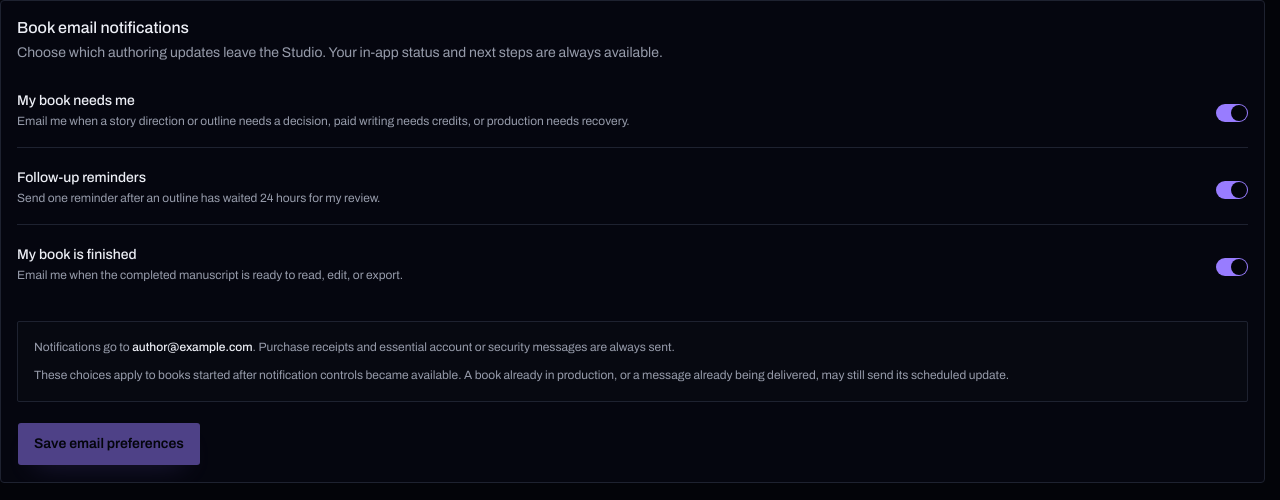
it: NotificationPreferencesCard › treats response loss as unconfirmed and lets the author retry
What coordinates should you click on to do the following:
click the switch named "My book is finished"
I would click on:
 (1232, 267)
Its box is [1216,258,1248,276].
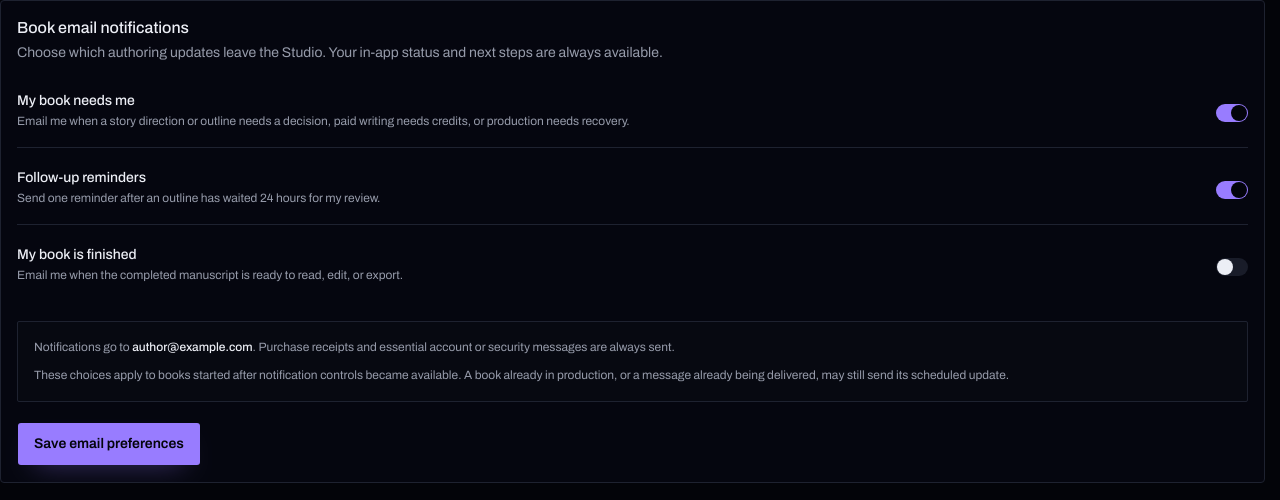
What coordinates should you click on to do the following:
click the button "Save email preferences"
I would click on:
 (109, 444)
Its box is [17,422,201,466].
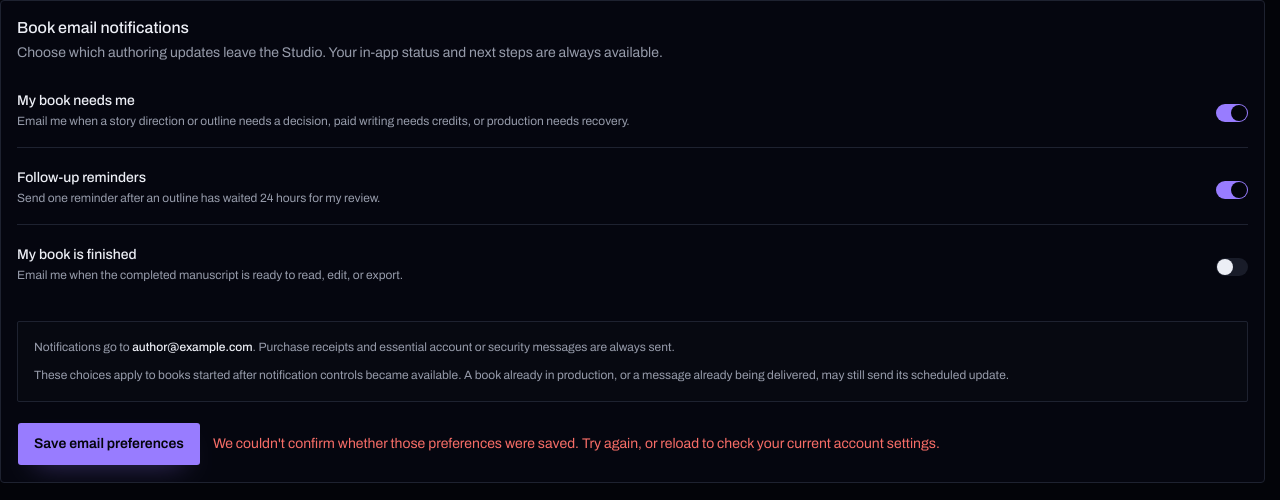
Expected: the switch named "My book is finished" is not checked
Expected: the button "Save email preferences" is enabled, [17,422,201,466]
Expected: the message shows "reload to check", [213,436,940,451]
What coordinates should you click on to do the following:
click the switch named "My book is finished"
I would click on:
 (1232, 267)
Its box is [1216,258,1248,276].
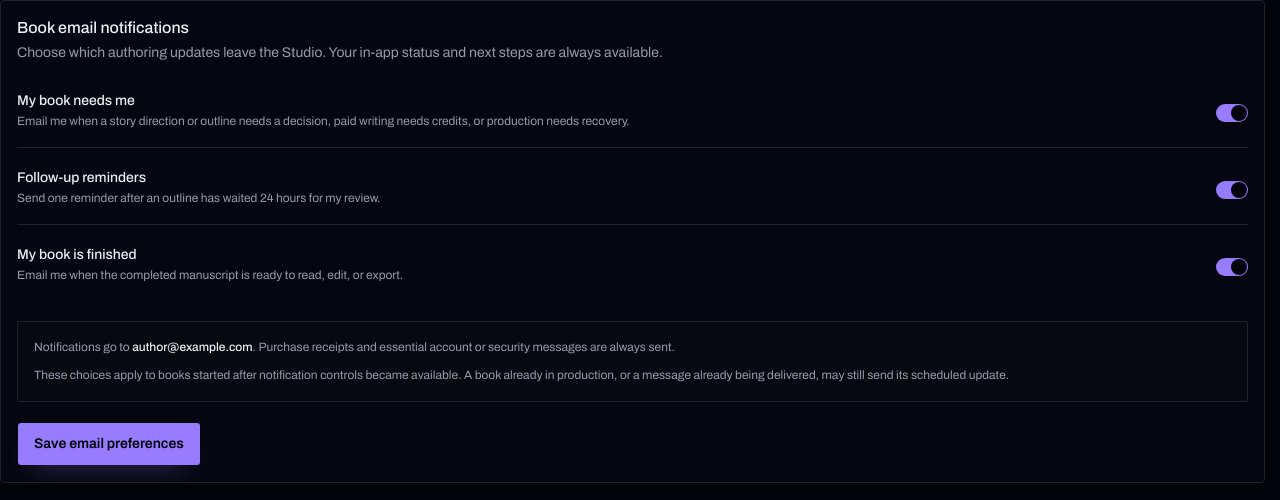
Expected: the switch named "My book is finished" is checked, [1216,258,1248,276]
Expected: the button "Save email preferences" is enabled
What coordinates should you click on to do the following:
click the button "Save email preferences"
I would click on:
 (109, 444)
Its box is [17,422,201,466].
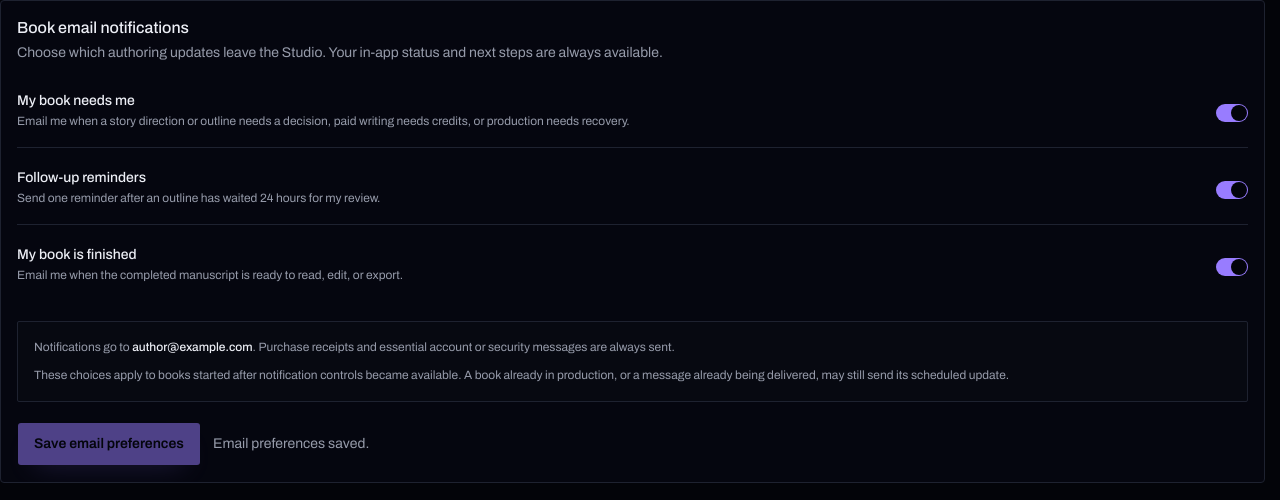
Expected: the message reads "Email preferences saved.", [213,436,369,451]
Expected: the button "Save email preferences" is disabled, [17,422,201,466]
